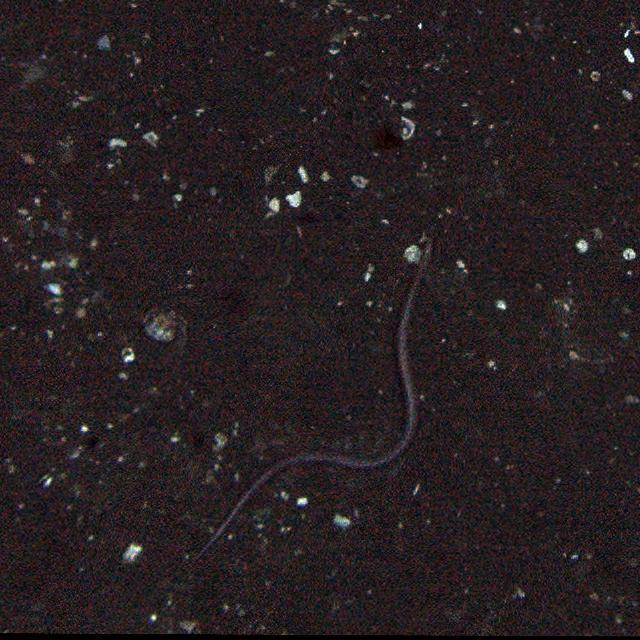eel: (196, 257, 432, 561)
